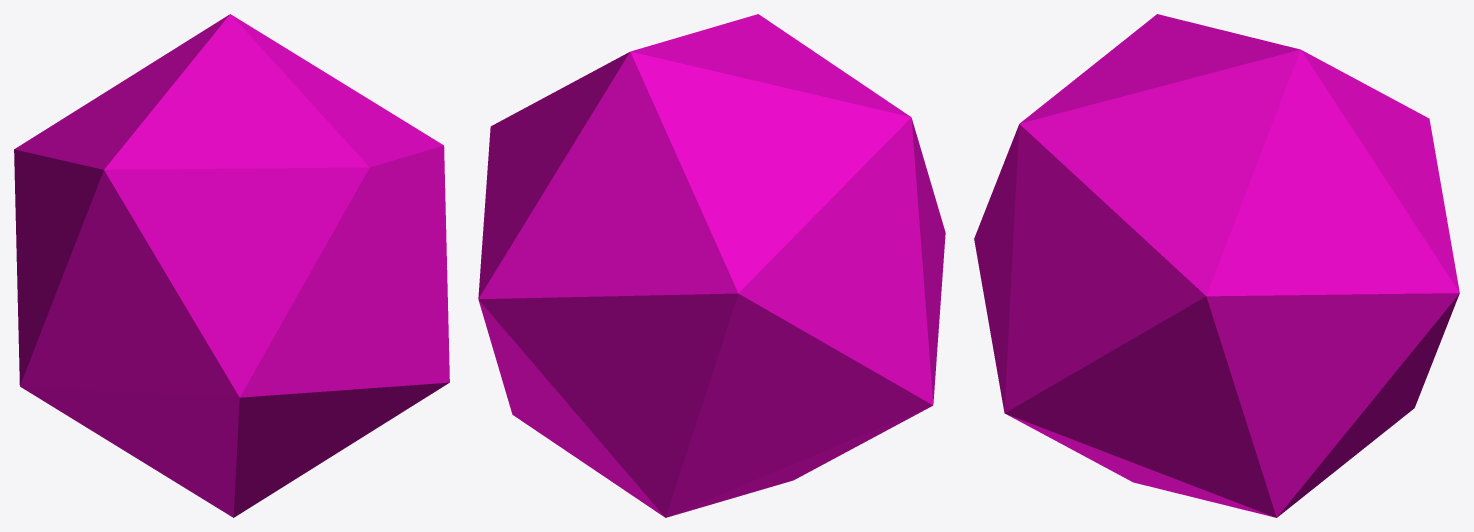
File: ball.glb
3 views of the same model, side by side, from view 1: azimuth 30°, elevation 25°; view 2: azimuth 150°, elevation 25°; view 3: azimuth 270°, elevation 25° (orthographic). The views are drawn at different scales.
Visible parts, largest first — view 1: Icosphere; view 2: Icosphere; view 3: Icosphere.
Boxes of the visible parts, box(x1,y1,x2,y2) form: Icosphere: box(14, 14, 449, 517); Icosphere: box(478, 14, 945, 517); Icosphere: box(974, 14, 1459, 517).
Size of the model in its own units: 0.6057 by 0.6007 by 0.5603.
